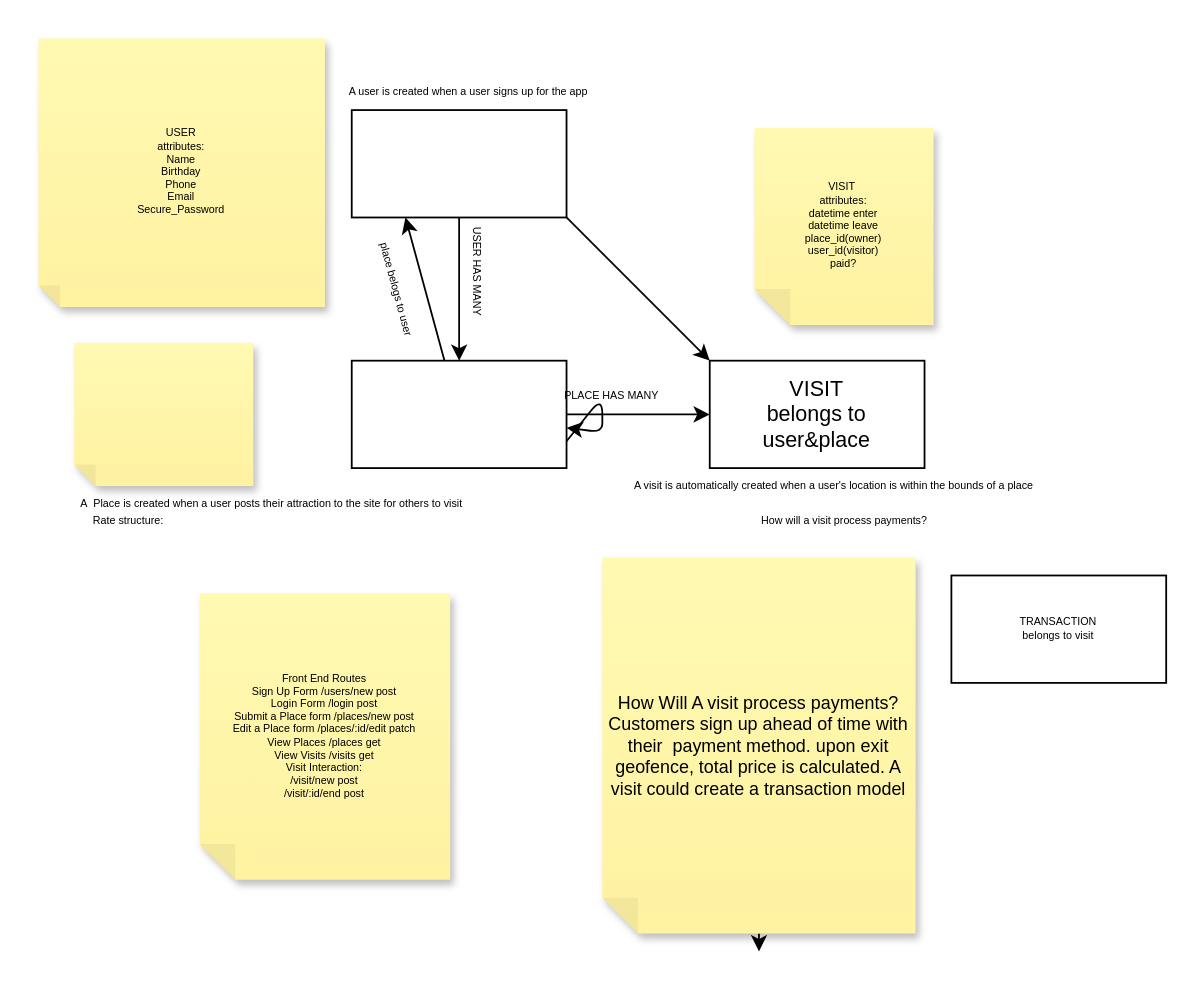
Some shapes in this 1198 by 997 pixel diagram are drawn without their labels. The shapes that lost their labels are listed below. From the top down, each one's centre as x and y in pixels, then its label:
the point at 458,162: USER
the point at 164,416: PLACE attributes: Address Name user_id rate:
the point at 458,413: PLACE belongs to user(owner)
